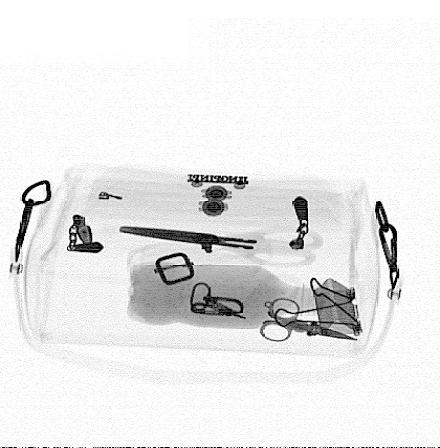Scissors: (118, 225, 327, 269)
